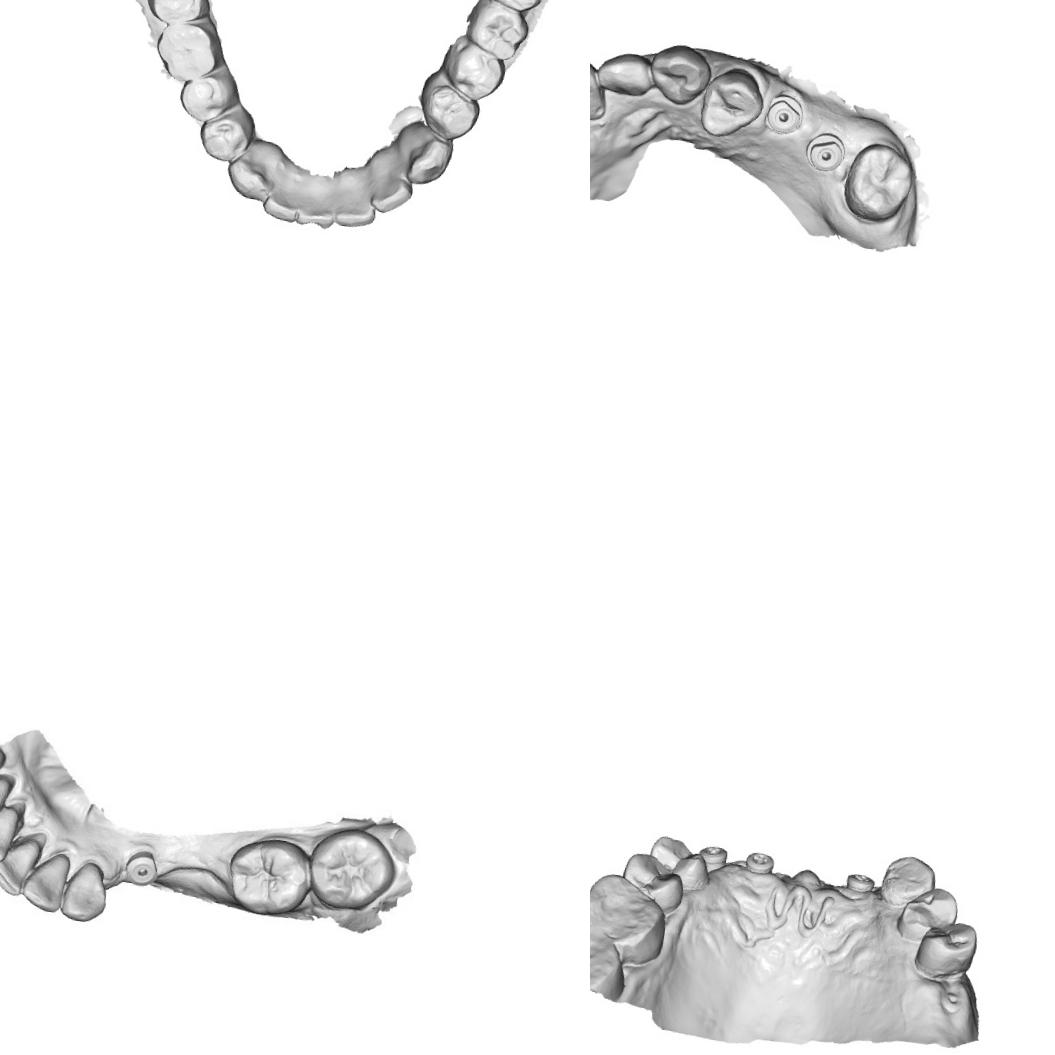canine: (643, 37, 715, 114), (392, 120, 458, 193), (221, 140, 283, 205), (876, 851, 940, 910), (60, 858, 112, 926)
implant: (760, 90, 809, 140), (802, 128, 848, 177), (122, 850, 164, 886), (695, 842, 730, 876)
implant_plus: (743, 848, 777, 877), (843, 870, 877, 894)
incisor: (17, 846, 72, 915), (593, 46, 656, 101), (0, 830, 43, 896), (294, 182, 341, 232), (368, 171, 416, 219), (332, 188, 379, 234), (260, 180, 304, 225), (590, 50, 612, 125), (0, 798, 22, 869)
molar: (298, 822, 405, 920), (590, 868, 672, 969), (224, 832, 312, 920), (838, 136, 920, 228), (148, 15, 228, 87), (463, 0, 531, 64), (590, 912, 634, 1003), (140, 0, 217, 30), (481, 0, 548, 14)
premolar: (694, 61, 770, 143), (438, 36, 510, 106), (911, 916, 981, 985), (617, 850, 689, 916), (644, 832, 716, 894), (894, 881, 962, 946), (417, 80, 483, 146), (194, 101, 259, 167), (174, 68, 239, 130)
